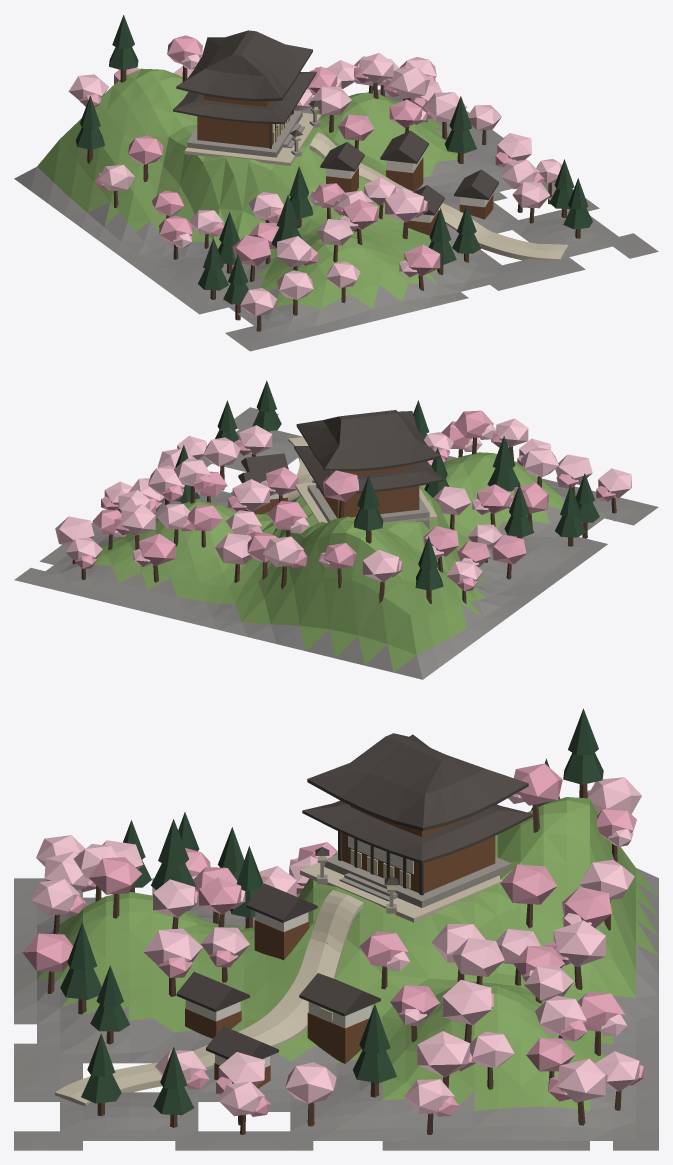
The model's file is yoshino-yama.glb.
3 renders of one model, top to bottom at view 1: azimuth 30°, elevation 25°; view 2: azimuth 150°, elevation 25°; view 3: azimuth 270°, elevation 25°, orthographic. The views are drawn at different scales.
Parts seen in each view (by area): view 1: yoshino_grass, yoshino_terrain, yoshino_blossom, yoshino_roof, yoshino_blossom2, yoshino_cedar, yoshino_path, yoshino_wood, yoshino_bark, yoshino_stone, yoshino_plaster; view 2: yoshino_grass, yoshino_terrain, yoshino_blossom, yoshino_blossom2, yoshino_roof, yoshino_cedar, yoshino_bark, yoshino_wood, yoshino_path, yoshino_stone; view 3: yoshino_grass, yoshino_terrain, yoshino_blossom, yoshino_roof, yoshino_blossom2, yoshino_cedar, yoshino_path, yoshino_wood, yoshino_bark, yoshino_stone, yoshino_plaster.
Part boxes in pixels (<box>): yoshino_grass: <box>37,68,465,308</box>; yoshino_terrain: <box>14,89,658,351</box>; yoshino_blossom: <box>68,53,561,316</box>; yoshino_roof: <box>173,30,498,215</box>; yoshino_blossom2: <box>80,35,544,285</box>; yoshino_cedar: <box>75,15,592,304</box>; yoshino_path: <box>184,112,568,260</box>; yoshino_wood: <box>197,95,493,235</box>; yoshino_bark: <box>87,66,580,331</box>; yoshino_stone: <box>187,108,320,159</box>; yoshino_plaster: <box>272,124,492,222</box>; yoshino_grass: <box>94,452,563,672</box>; yoshino_terrain: <box>14,407,658,679</box>; yoshino_blossom: <box>55,418,631,583</box>; yoshino_blossom2: <box>75,410,615,591</box>; yoshino_roof: <box>238,410,443,494</box>; yoshino_cedar: <box>175,380,599,590</box>; yoshino_bark: <box>72,431,616,603</box>; yoshino_wood: <box>245,464,419,518</box>; yoshino_path: <box>287,437,437,523</box>; yoshino_stone: <box>307,479,429,529</box>; yoshino_grass: <box>37,797,658,1110</box>; yoshino_terrain: <box>14,868,658,1150</box>; yoshino_blossom: <box>31,777,641,1116</box>; yoshino_roof: <box>176,733,533,1059</box>; yoshino_blossom2: <box>22,763,643,1116</box>; yoshino_cedar: <box>60,708,603,1115</box>; yoshino_path: <box>55,858,502,1106</box>; yoshino_wood: <box>185,805,495,1088</box>; yoshino_bark: <box>47,784,621,1134</box>; yoshino_stone: <box>317,854,511,913</box>; yoshino_plaster: <box>185,835,413,1067</box>.
Size of the model in its own units: 22.4 by 9.07 by 22.4.
